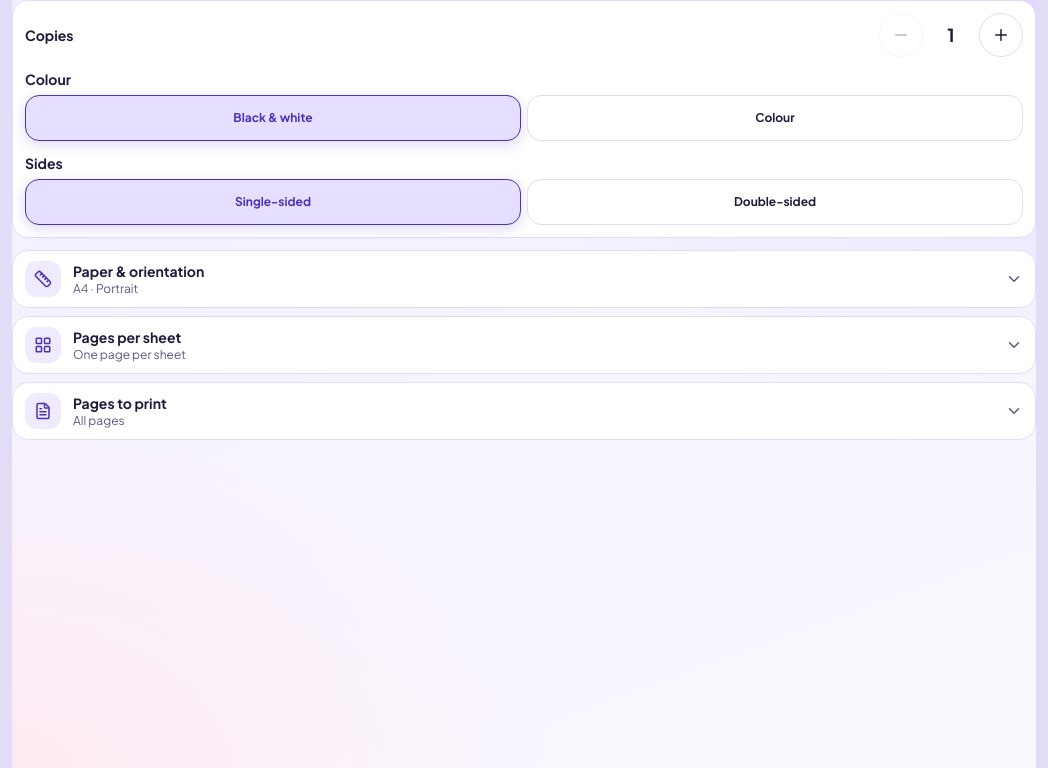
Test: opening a section shows its options, and only one section is open at a time
The width and height of the screenshot is (1048, 768).
Click the button "Paper & orientation A4 · Portrait": (43, 279) x1=13 y1=251 x2=1035 y2=307
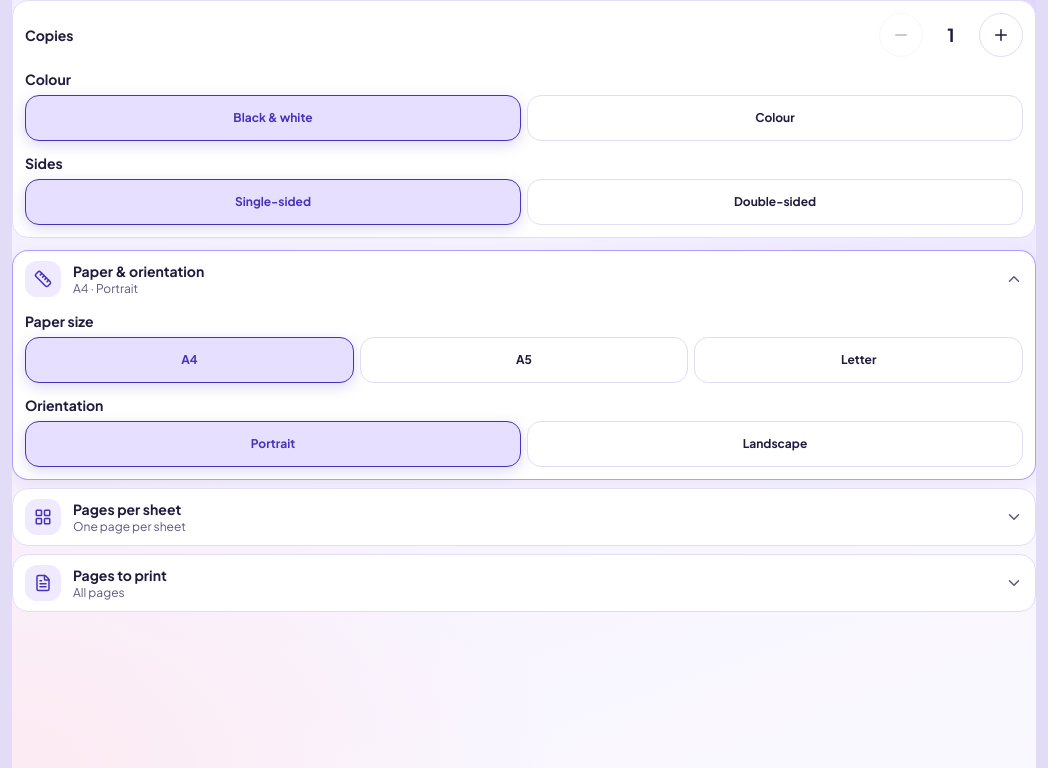
Expected: the button "Paper & orientation A4 · Portrait" is expanded, x1=13 y1=251 x2=1035 y2=307
Expected: the element named "Paper size" is shown, x1=25 y1=337 x2=1023 y2=383
Click the button "Pages per sheet One page per sheet": (43, 517) x1=13 y1=489 x2=1035 y2=545
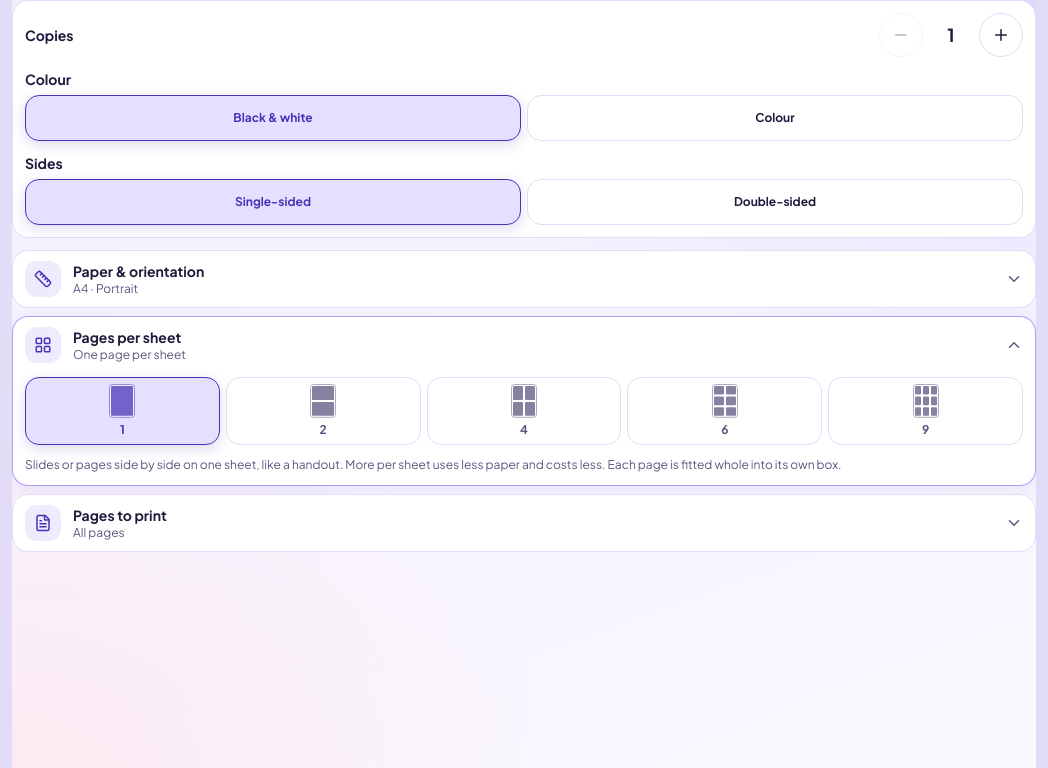
Expected: the button "Paper & orientation A4 · Portrait" is collapsed, x1=13 y1=251 x2=1035 y2=307
Expected: the text "Paper size" is gone
Expected: the element named "Pages per sheet" is shown, x1=25 y1=377 x2=1023 y2=445
Click the button "Pages per sheet One page per sheet": (43, 345) x1=13 y1=317 x2=1035 y2=373
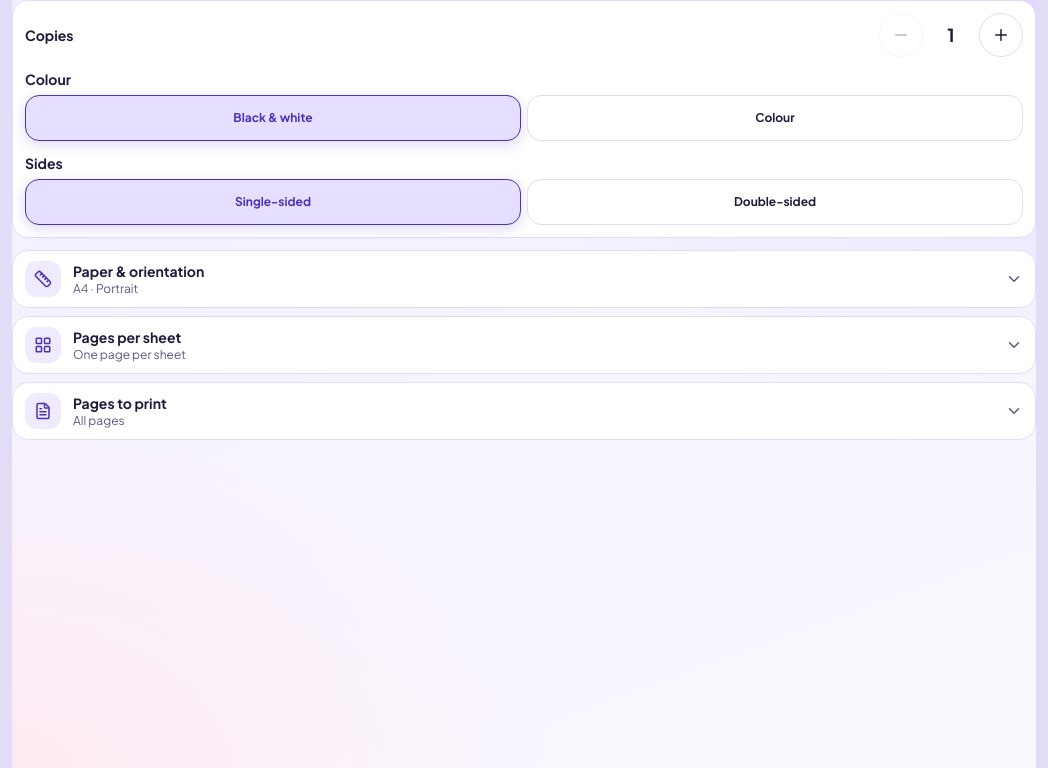
Expected: the button "Pages per sheet One page per sheet" is collapsed, x1=13 y1=317 x2=1035 y2=373
